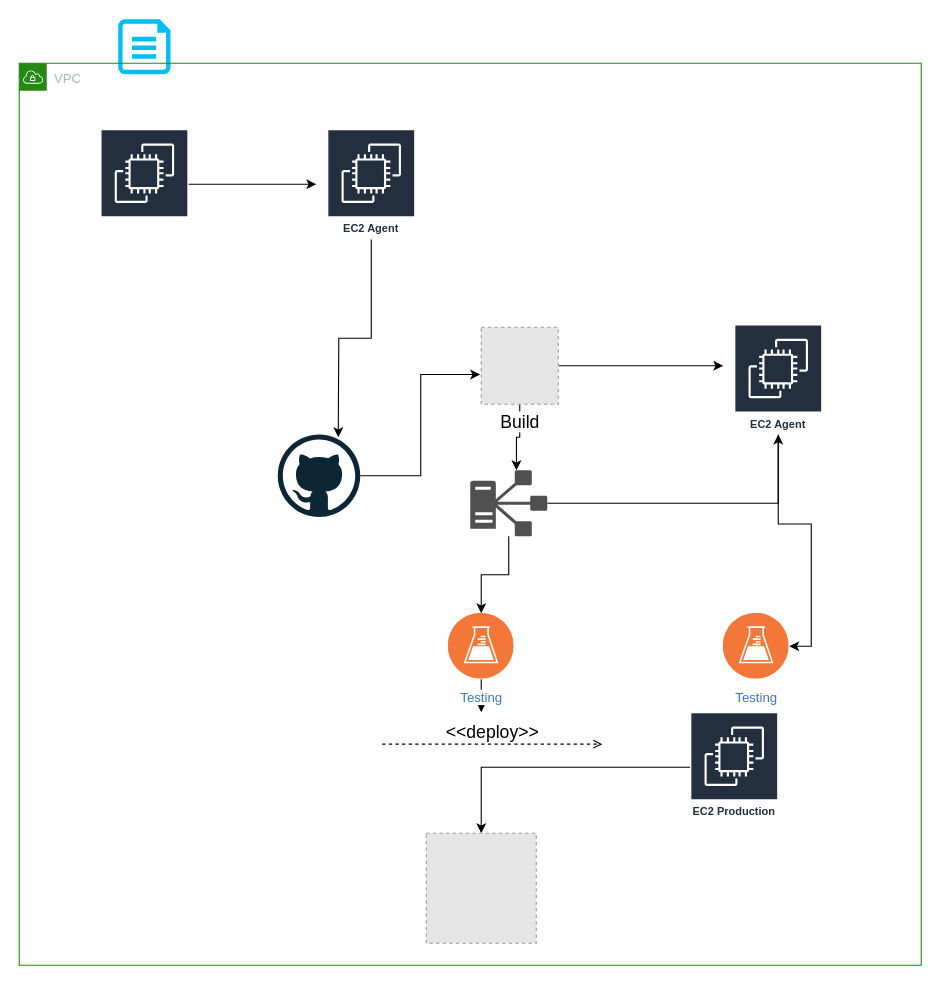
Image size: 941x985. Some labels were removed from this diagram. Grey dashed boxes stand in for pictures. Here are the shapes that lost their labels. From the top down, the centre of each, then its label:
At pixel 144 46: "Ansible".
At pixel 143 183: "EC2 Master".
At pixel 508 503: "Install Cypress and Node".
